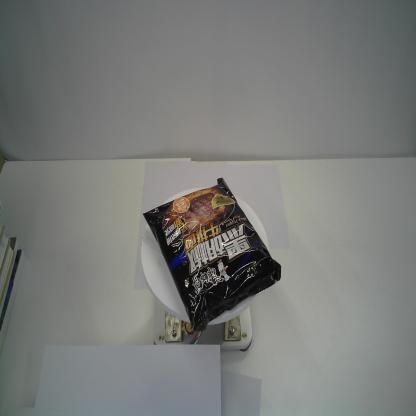Instant Noodles: (141, 175, 283, 334)
